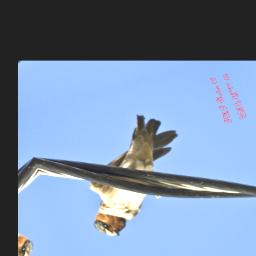Swallow: (59, 105, 209, 243)
